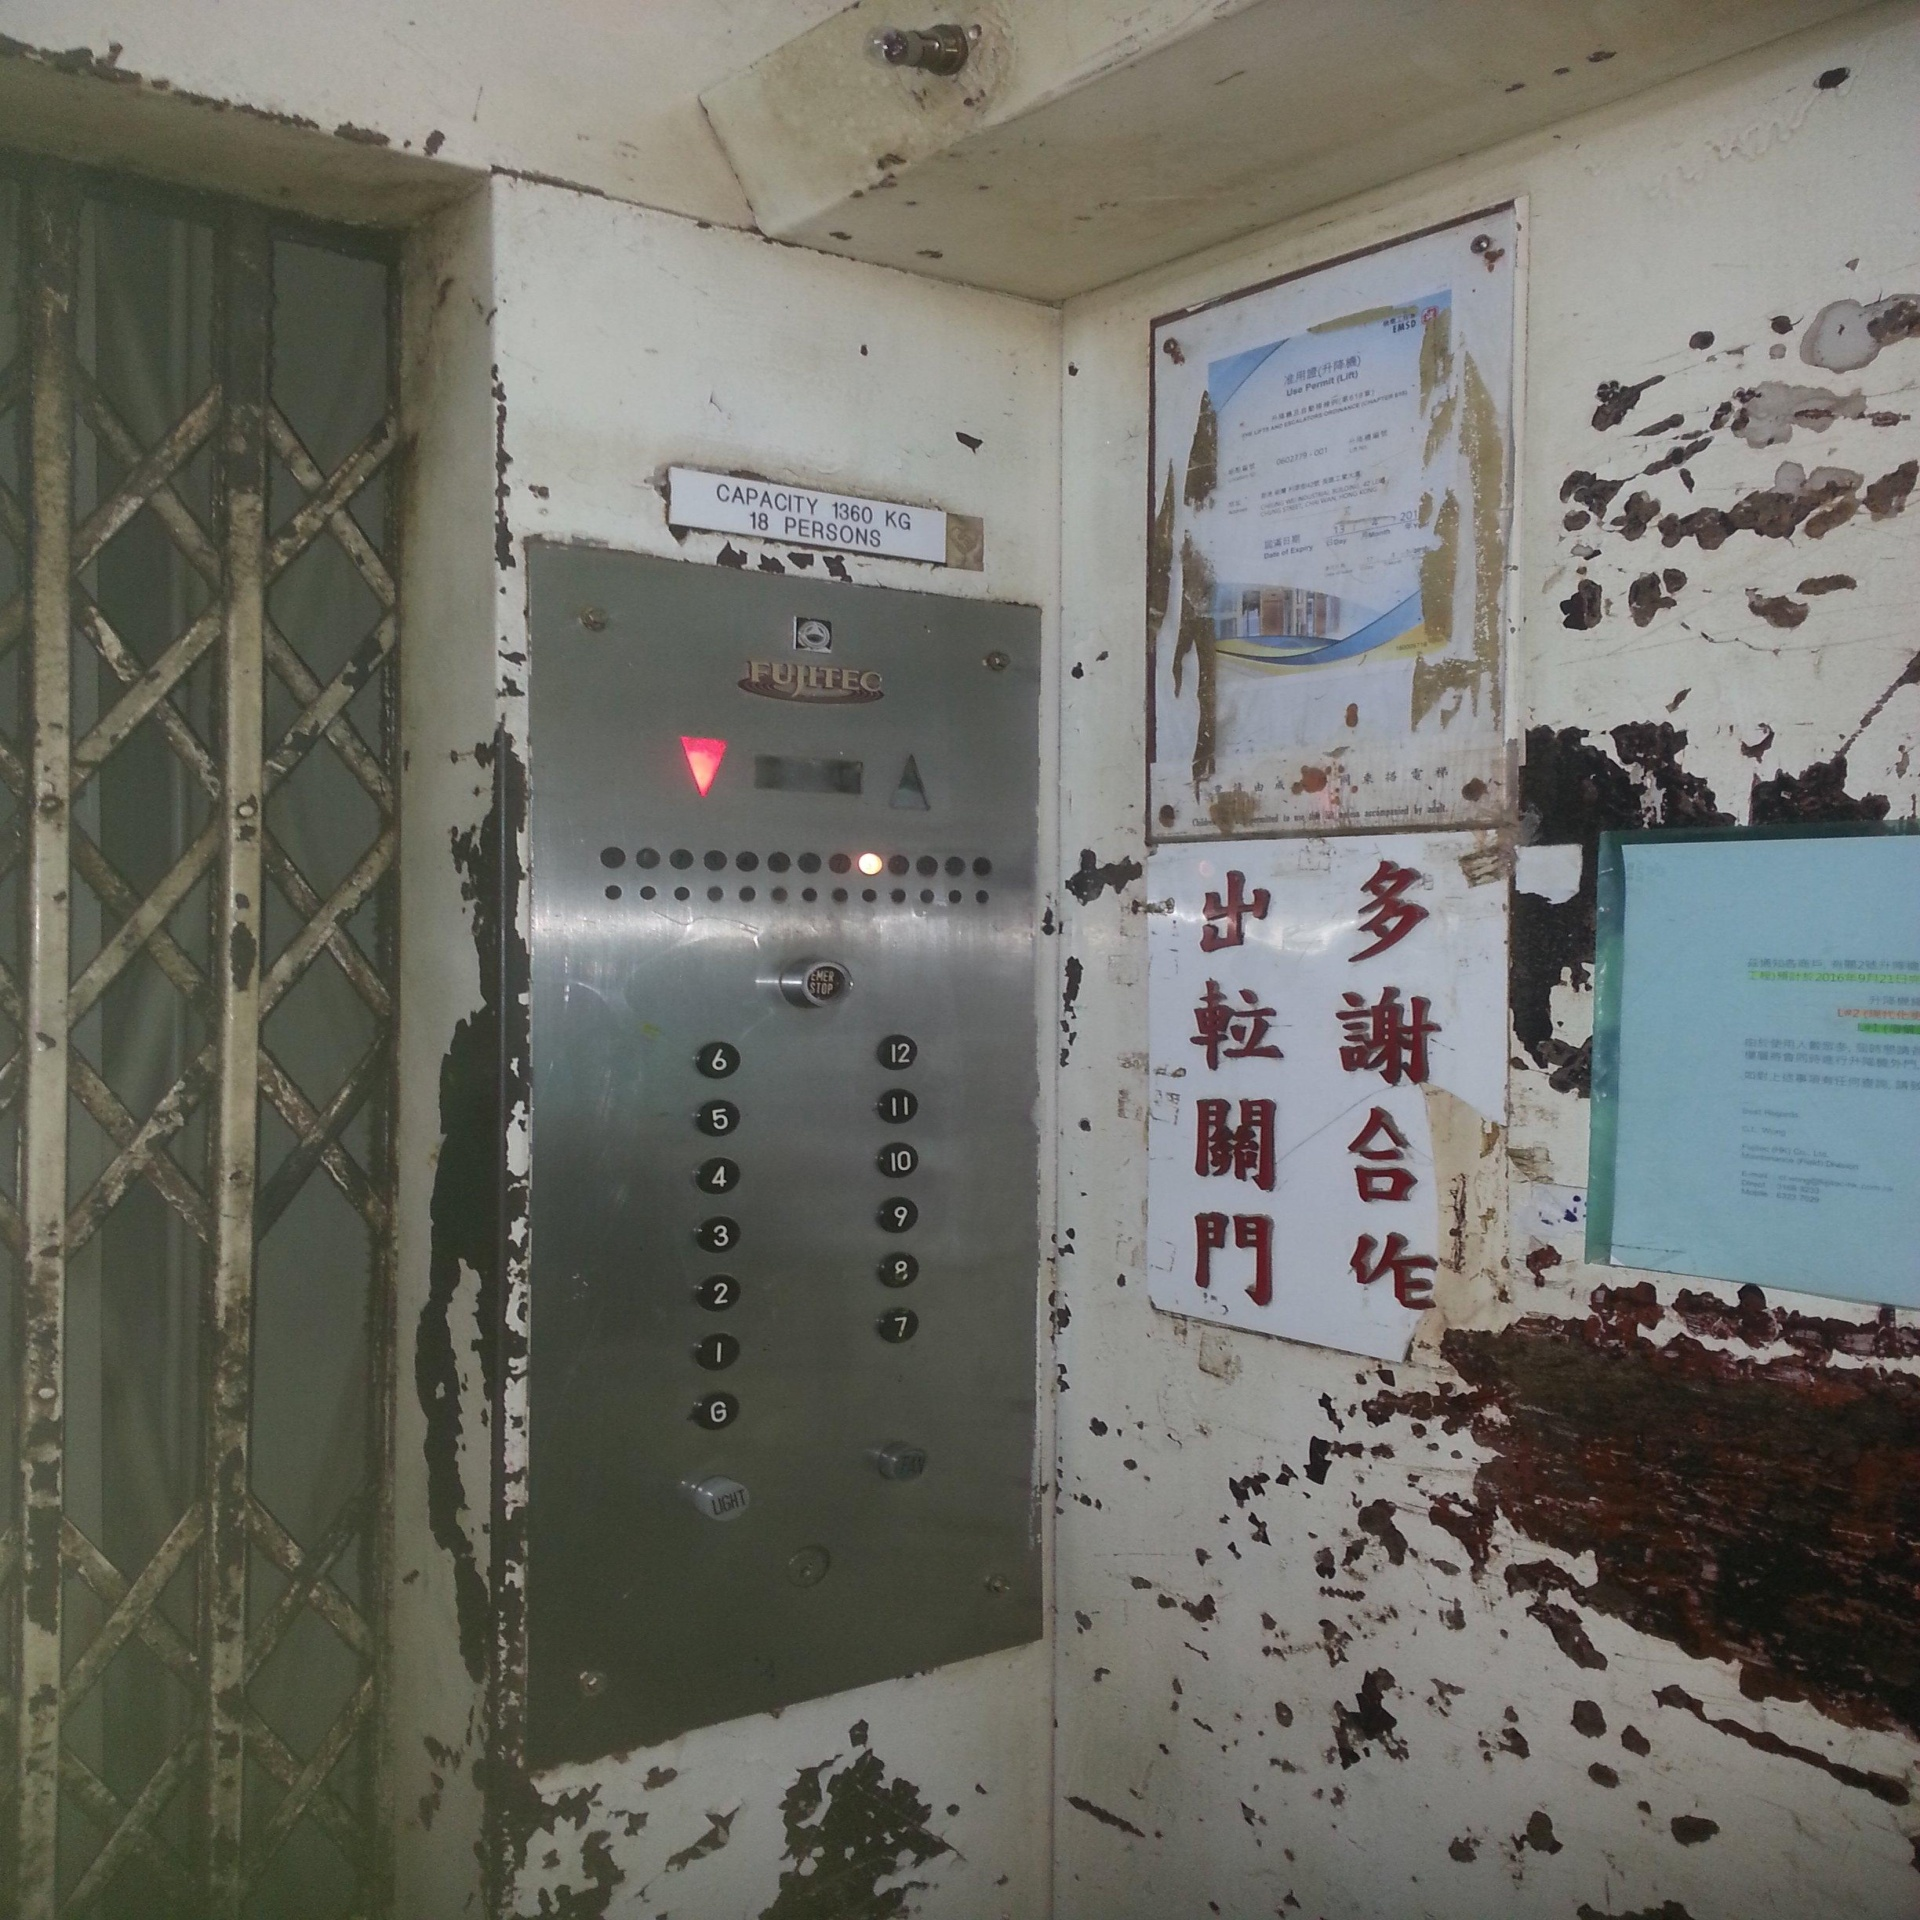1: (693, 1331, 740, 1371)
10: (876, 1141, 920, 1180)
11: (876, 1088, 918, 1125)
12: (876, 1034, 918, 1071)
2: (693, 1273, 740, 1312), (668, 847, 693, 869)
3: (693, 1213, 740, 1254), (702, 849, 726, 870)
4: (691, 1155, 740, 1196), (733, 849, 760, 872)
5: (691, 1097, 738, 1138), (767, 849, 791, 874)
6: (695, 1041, 740, 1080), (796, 851, 821, 874)
7: (876, 1305, 918, 1345), (828, 853, 851, 874)
8: (876, 1250, 920, 1287)
9: (874, 1196, 918, 1233)
G: (691, 1393, 740, 1429)
blur: (858, 851, 883, 876), (600, 846, 626, 869), (636, 846, 659, 869), (916, 855, 939, 877), (886, 855, 911, 876), (944, 856, 965, 877), (972, 856, 992, 877)
keyhole: (784, 1544, 832, 1588)
text: (781, 956, 855, 1009)
text_fan: (877, 1442, 927, 1482)
text_light: (693, 1473, 751, 1523)
